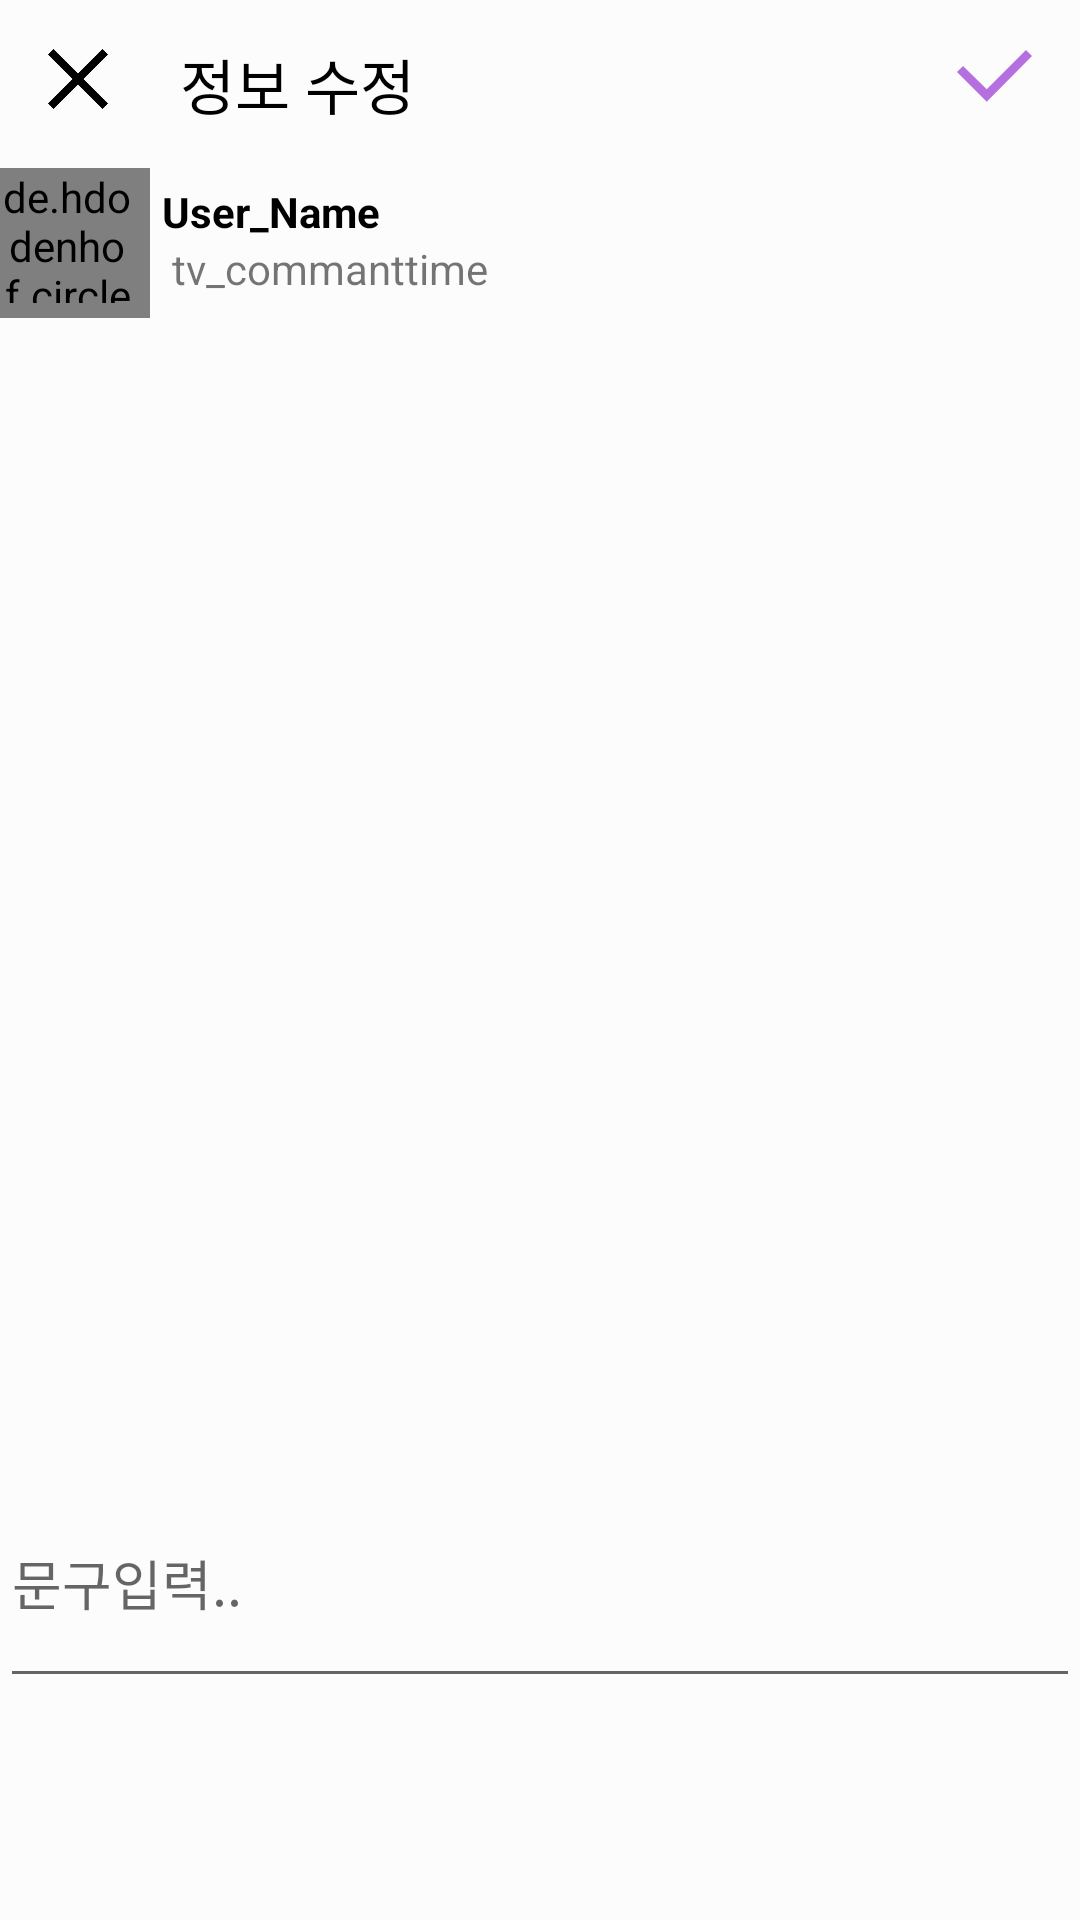

Icons on this 1080*1920 Android screen, each with the point to tap as point (x, y):
ccancle: point (78, 79)
yes: point (994, 76)
